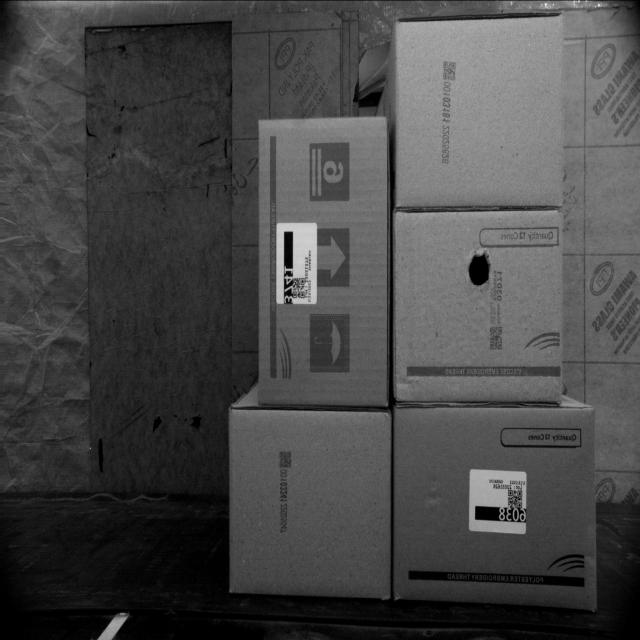cardboxes: (258, 115, 392, 409), (391, 408, 595, 600), (390, 6, 562, 212), (392, 214, 563, 403), (230, 408, 392, 594)
